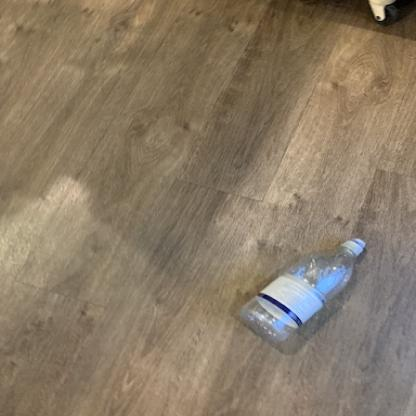trash: (239, 238, 364, 343)
